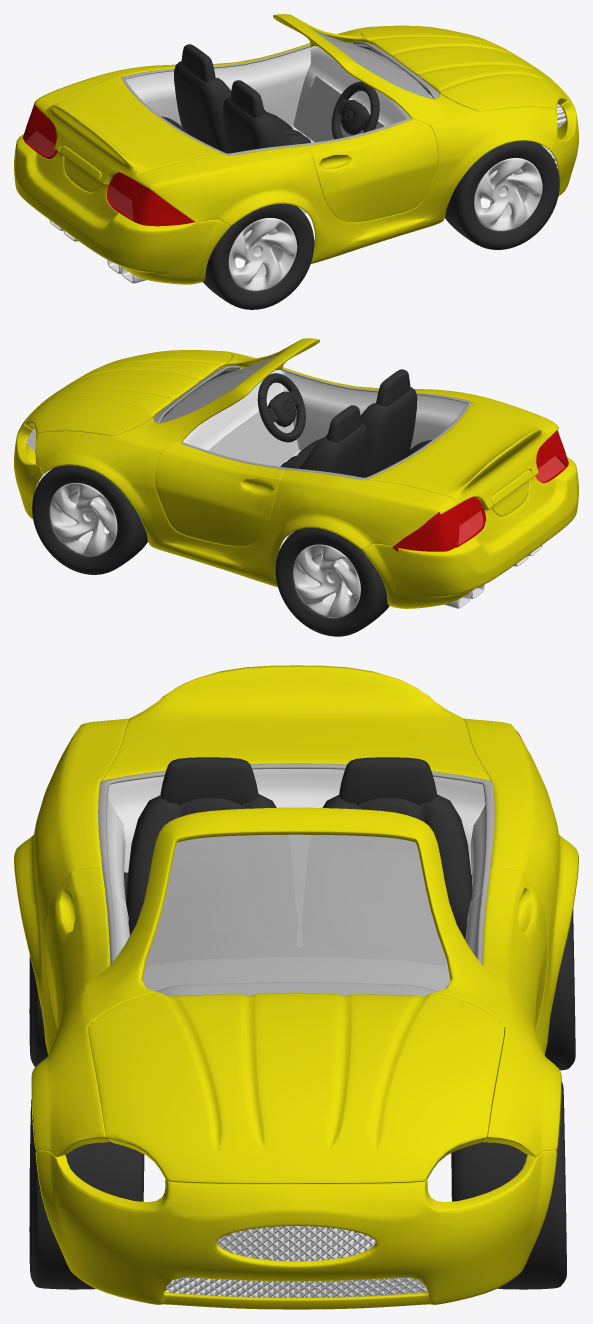
File: Car.fbx
3 views of the same model, one above another, from view 1: azimuth 30°, elevation 25°; view 2: azimuth 150°, elevation 25°; view 3: azimuth 270°, elevation 25° (orthographic). The views are drawn at different scales.
Visible parts, largest first — view 1: Body, wheel_02, wheel_04, L_Seat, R_Seat, steering_wheel; view 2: Body, wheel_01, wheel_03, R_Seat, L_Seat, steering_wheel; view 3: Body, L_Seat, R_Seat, wheel_01, wheel_02, wheel_03, wheel_04.
Part boxes in pixels (box(x1,y1,x2,y2)): Body: box(14, 14, 578, 284); wheel_02: box(445, 141, 559, 249); wheel_04: box(203, 203, 314, 309); L_Seat: box(174, 44, 303, 153); R_Seat: box(223, 80, 310, 153); steering_wheel: box(331, 81, 379, 139); Body: box(14, 338, 578, 608); wheel_01: box(32, 465, 147, 574); wheel_03: box(275, 527, 389, 636); R_Seat: box(287, 369, 417, 477); L_Seat: box(280, 405, 368, 477); steering_wheel: box(257, 373, 305, 442); Body: box(14, 665, 578, 1309); L_Seat: box(322, 757, 472, 939); R_Seat: box(126, 757, 276, 934); wheel_01: box(451, 1082, 566, 1289); wheel_02: box(29, 1099, 144, 1289); wheel_03: box(471, 875, 575, 1070); wheel_04: box(29, 872, 127, 1067).
Size of the model in its own units: 23.77 by 9.05 by 13.07.
